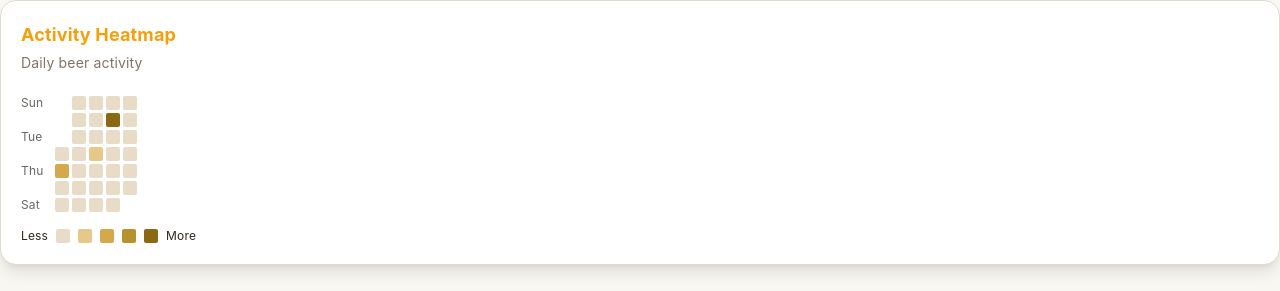
Test: ActivityHeatmap › shows and hides the tooltip on hover
Hover over the 7th element with test id "heatmap-cell" at (113, 120), box [106,113,120,127]
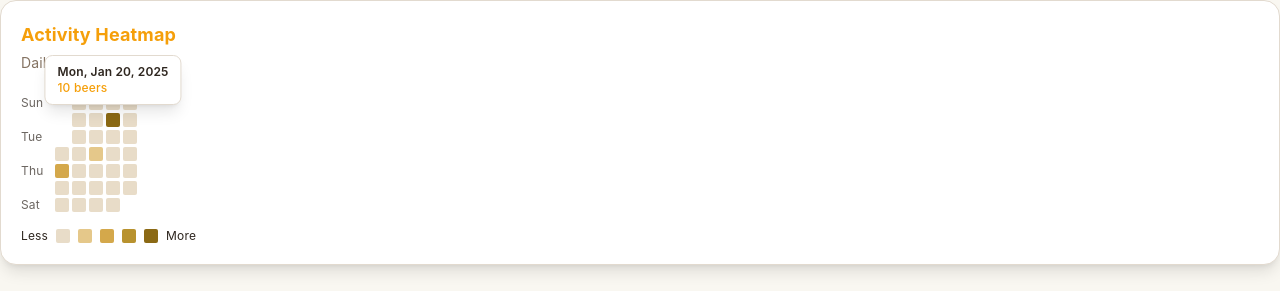
Check: the tooltip shows "Mon, Jan 20, 2025", box [58,64,169,79]
Check: the tooltip shows "10 beers", box [44,55,182,105]
Move the pointer off the 7th element with test id "heatmap-cell", box [106,113,120,127]
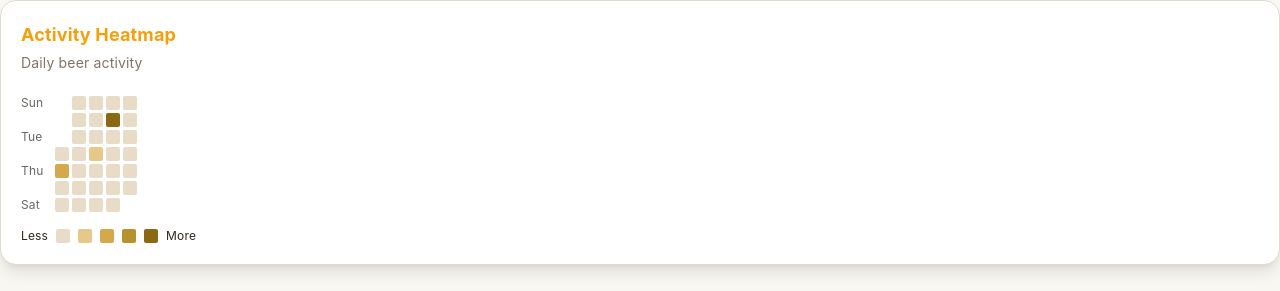
Check: the tooltip "Mon, Jan 20, 2025 10 beers" is gone
